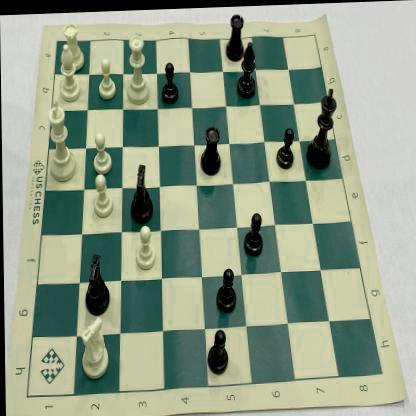black-bishop: (235, 36, 259, 102)
black-king: (303, 82, 342, 172)
black-knight: (82, 246, 113, 318), (127, 160, 156, 226)
black-pawn: (204, 324, 230, 376), (240, 207, 265, 260), (214, 264, 238, 314), (160, 58, 182, 105), (275, 123, 296, 172)
black-rook: (197, 121, 224, 180), (223, 6, 247, 65)
white-bishop: (56, 38, 82, 101)
white-king: (42, 94, 80, 182)
white-knight: (74, 311, 112, 380)
white-pawn: (132, 222, 158, 271), (90, 168, 114, 218), (95, 52, 118, 101), (90, 126, 112, 174)
white-queen: (123, 26, 154, 106)
white-rook: (62, 17, 88, 72)
